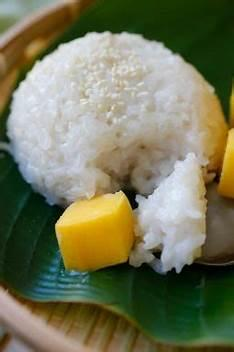Kiribath: (16, 19, 215, 251)
